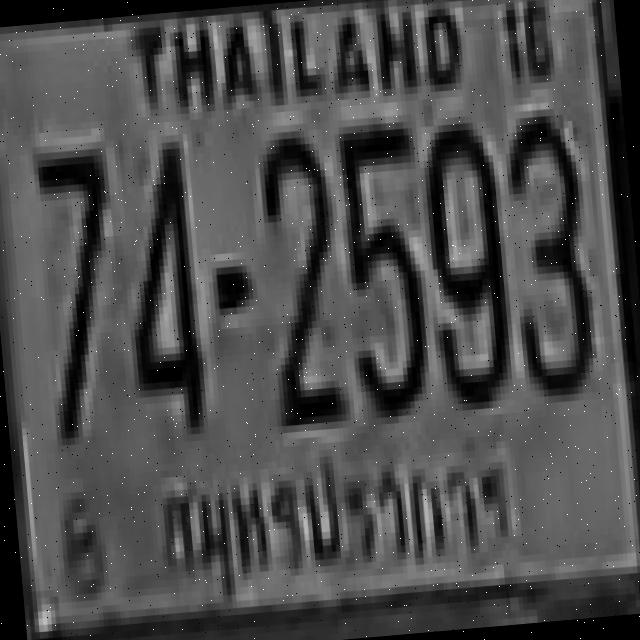2: (252, 128, 346, 426)
3: (497, 107, 595, 391)
4: (111, 134, 205, 432)
5: (333, 115, 432, 412)
7: (31, 141, 126, 439), (32, 144, 118, 360)
9: (416, 114, 514, 405)
SamutPrakan: (134, 428, 522, 604)
